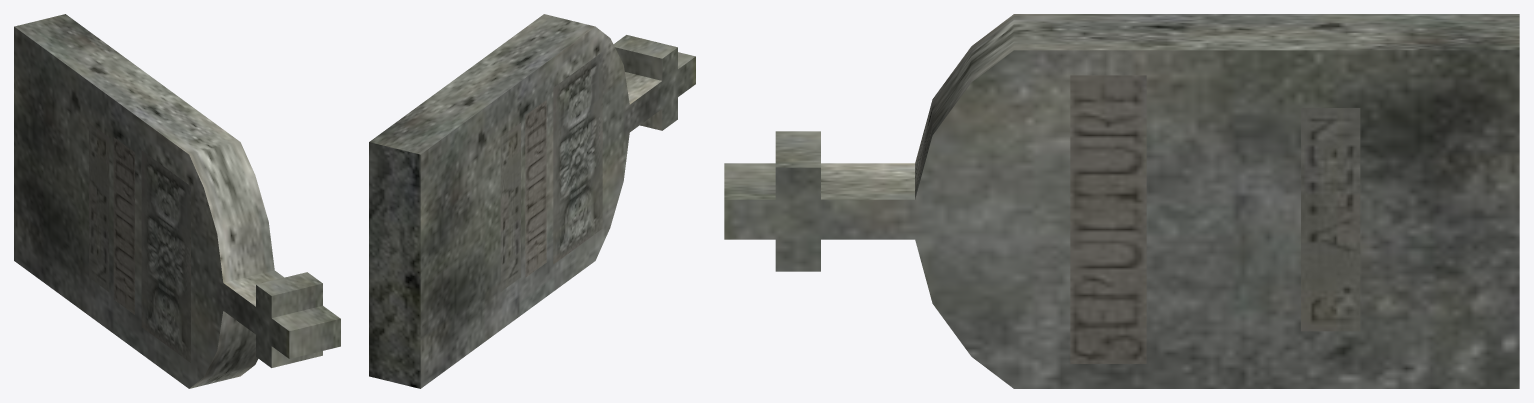
The model's file is prop_tombstone11.glb.
3 renders of one model, left to right at view 1: azimuth 30°, elevation 25°; view 2: azimuth 150°, elevation 25°; view 3: azimuth 270°, elevation 25°, orthographic. The views are drawn at different scales.
Bounding box in the file's own units: 6.01 × 24.08 × 51.27.
Materials: 1 (1 with a texture image).
